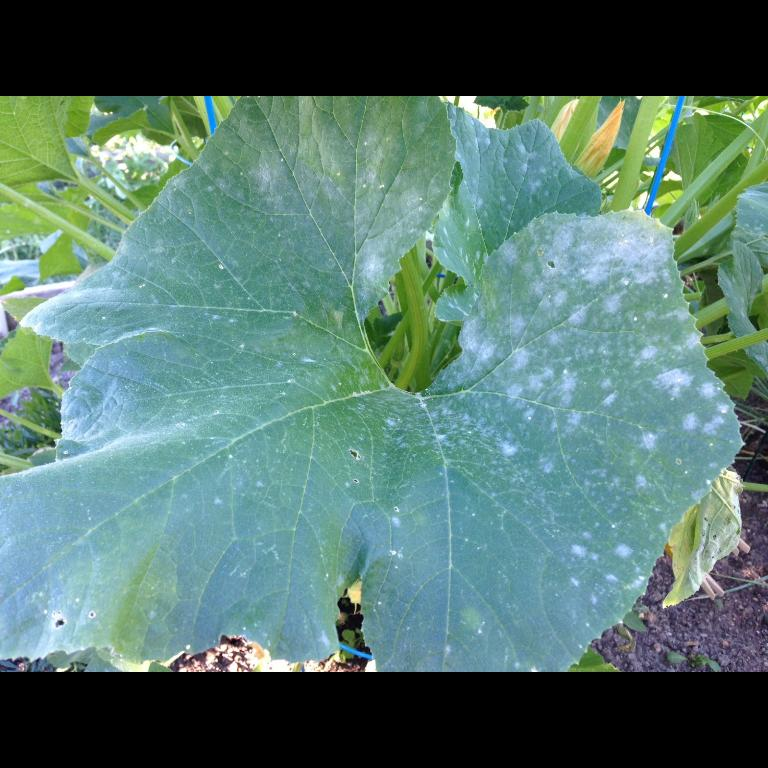powdery-mildew: (542, 228, 668, 354), (488, 365, 598, 461)
